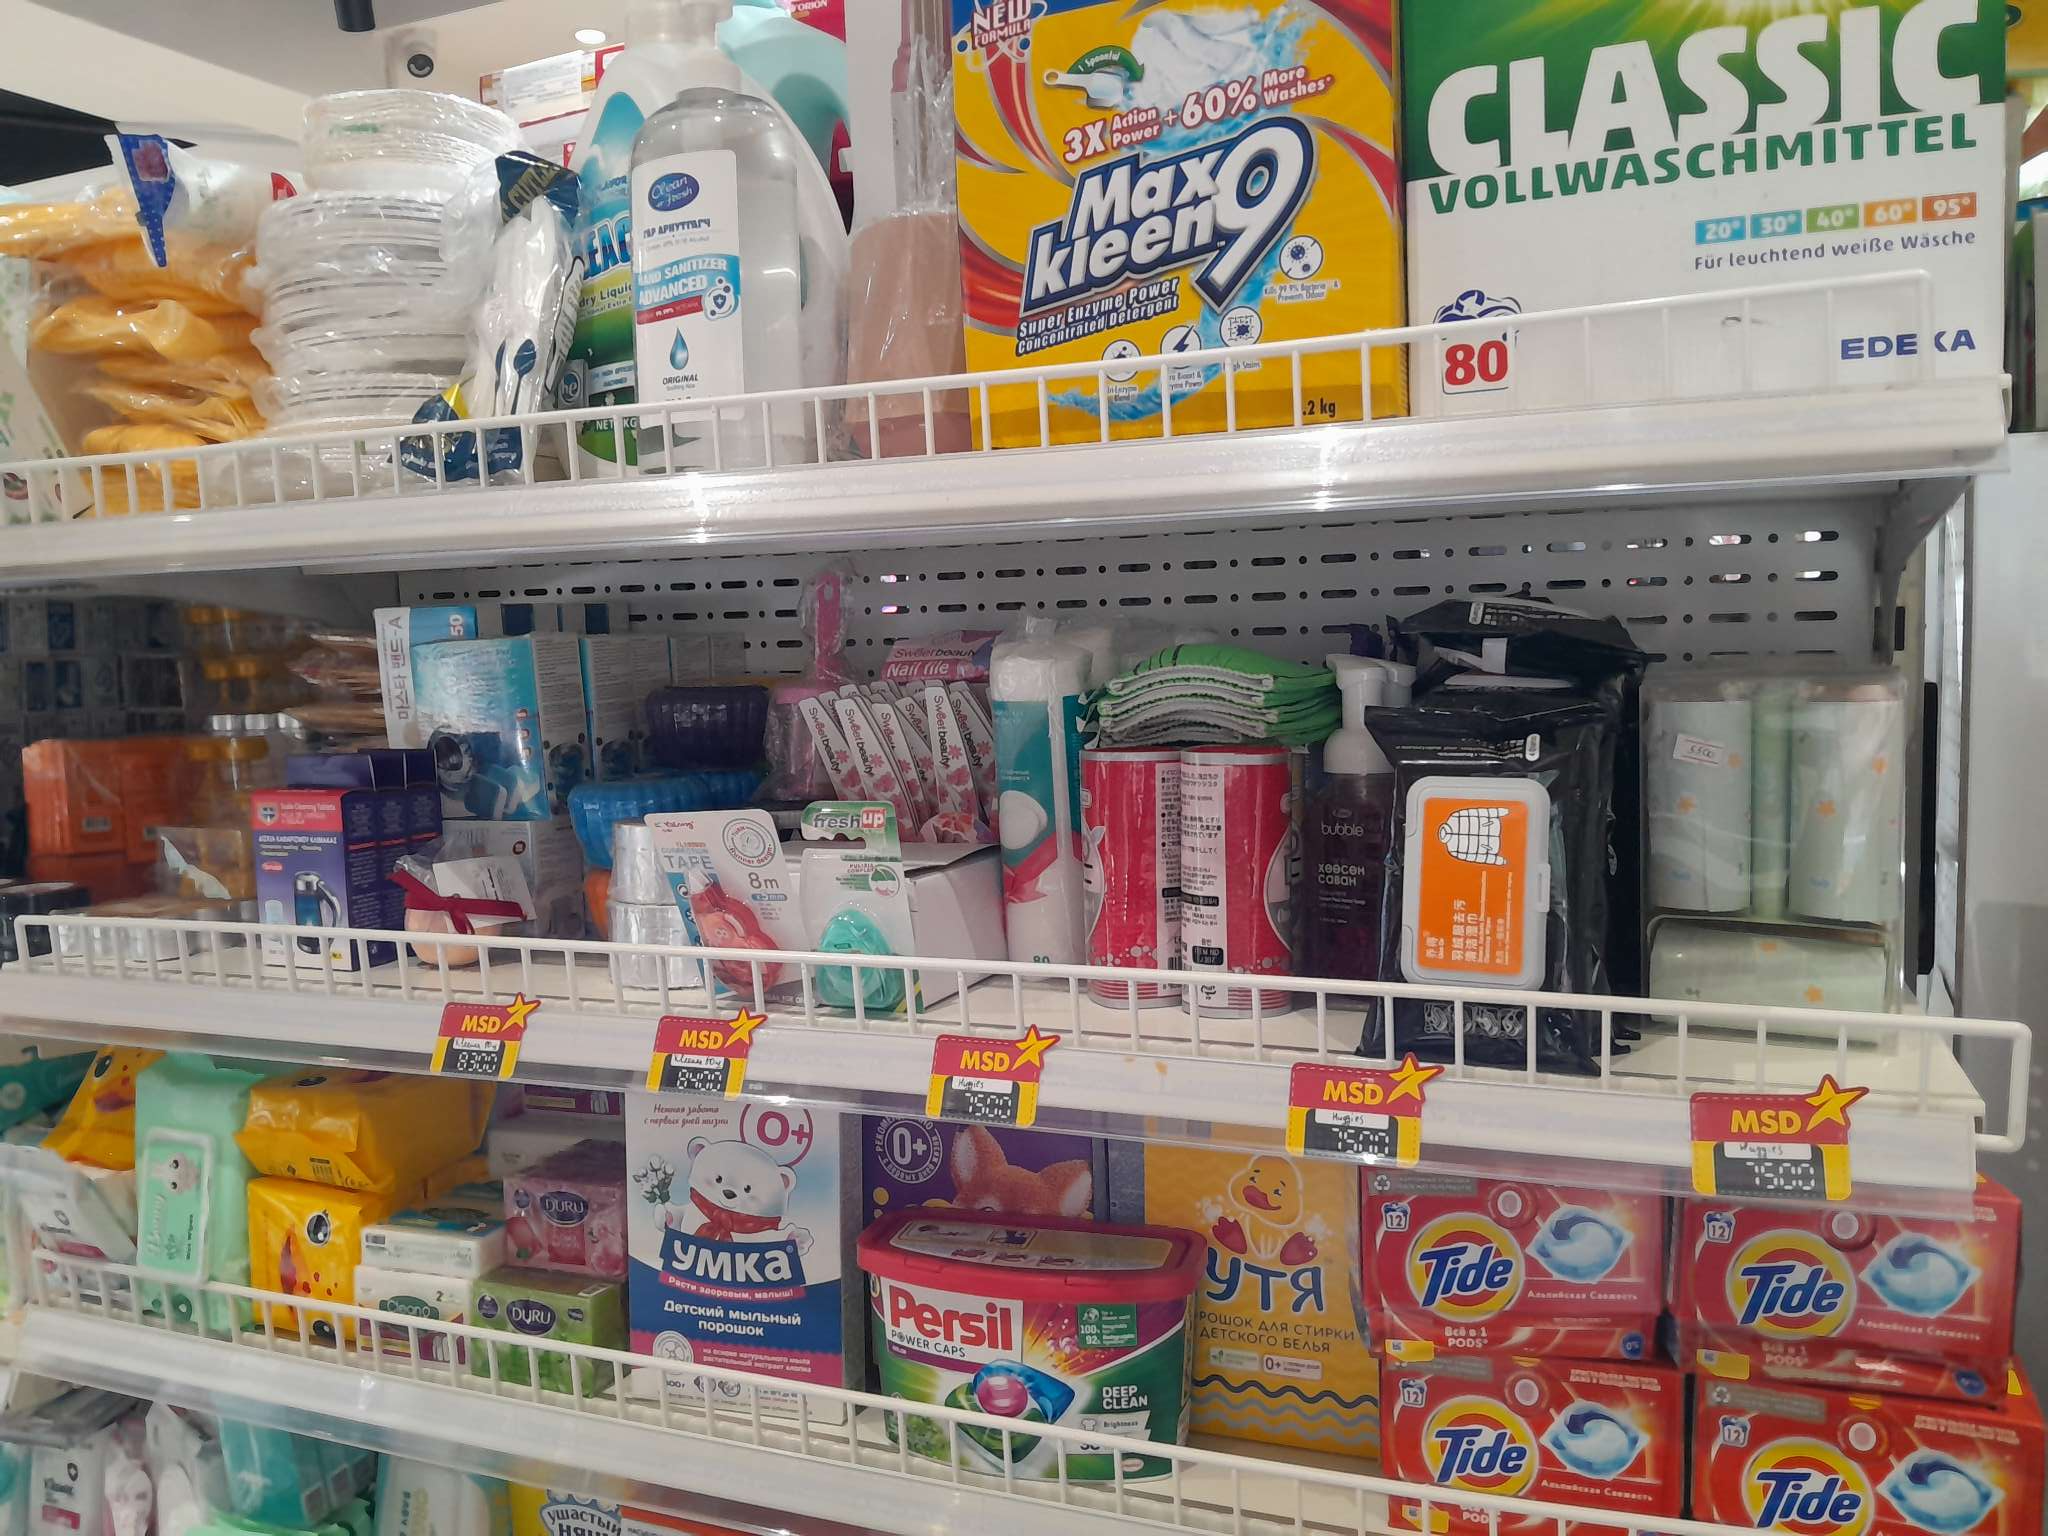ariun: (239, 1189, 356, 1338), (53, 1041, 140, 1158)
clean&white: (361, 1236, 460, 1363)
duru: (458, 1284, 608, 1381), (511, 1178, 626, 1267)
kleenex wipes: (3, 1152, 127, 1276), (21, 1431, 105, 1533)
maxkleen9: (934, 5, 1392, 418)
persil: (848, 1231, 1195, 1449)
tide: (1374, 1328, 1680, 1525), (1687, 1381, 2027, 1536), (1684, 1215, 2009, 1373), (1363, 1167, 1661, 1326)
umka: (619, 1100, 855, 1383)
